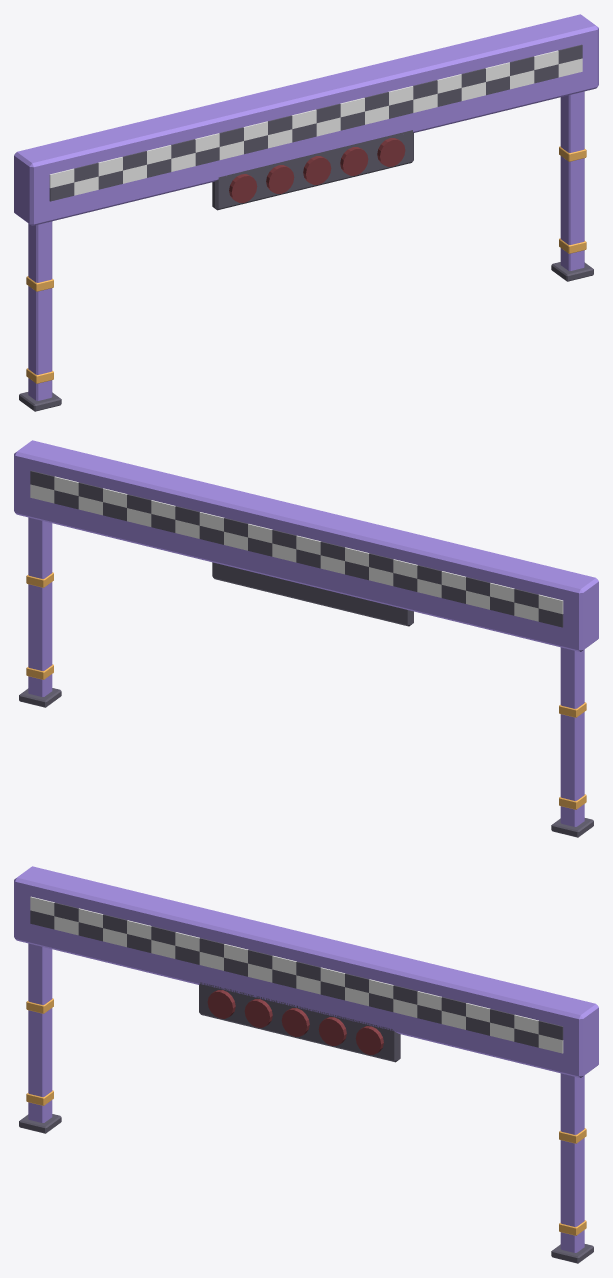
The model's file is start_arch.glb.
The picture shows the model from 3 angles, top to bottom: view 1: azimuth 30°, elevation 25°; view 2: azimuth 150°, elevation 25°; view 3: azimuth 330°, elevation 25°; orthographic projection.
Visible parts, largest first — view 1: start_arch, lamp_bar, LAMP5, LAMP1, LAMP4, LAMP2, LAMP3; view 2: start_arch, lamp_bar; view 3: start_arch, lamp_bar, LAMP1, LAMP5, LAMP2, LAMP3, LAMP4.
Part boxes in pixels (x1,y1,x2,y2): start_arch: (14, 14, 598, 411); lamp_bar: (212, 130, 413, 210); LAMP5: (377, 138, 405, 166); LAMP1: (229, 174, 257, 202); LAMP4: (340, 147, 368, 175); LAMP2: (266, 165, 294, 193); LAMP3: (303, 156, 331, 184); start_arch: (14, 440, 598, 837); lamp_bar: (212, 562, 413, 626); start_arch: (14, 866, 598, 1263); lamp_bar: (199, 982, 400, 1062); LAMP1: (207, 990, 235, 1018); LAMP5: (355, 1026, 383, 1054); LAMP2: (244, 999, 272, 1027); LAMP3: (281, 1008, 309, 1036); LAMP4: (318, 1017, 346, 1045).
Bounding box in the file's own units: 24.6 × 10.3 × 1.65.
